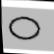no answer: (5, 14, 41, 42)
